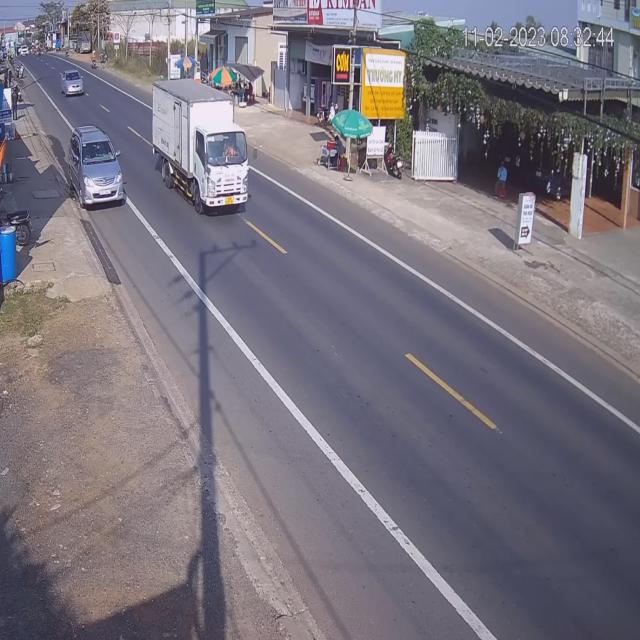car: (68, 125, 124, 208), (63, 70, 86, 99)
truck: (155, 78, 254, 215)
